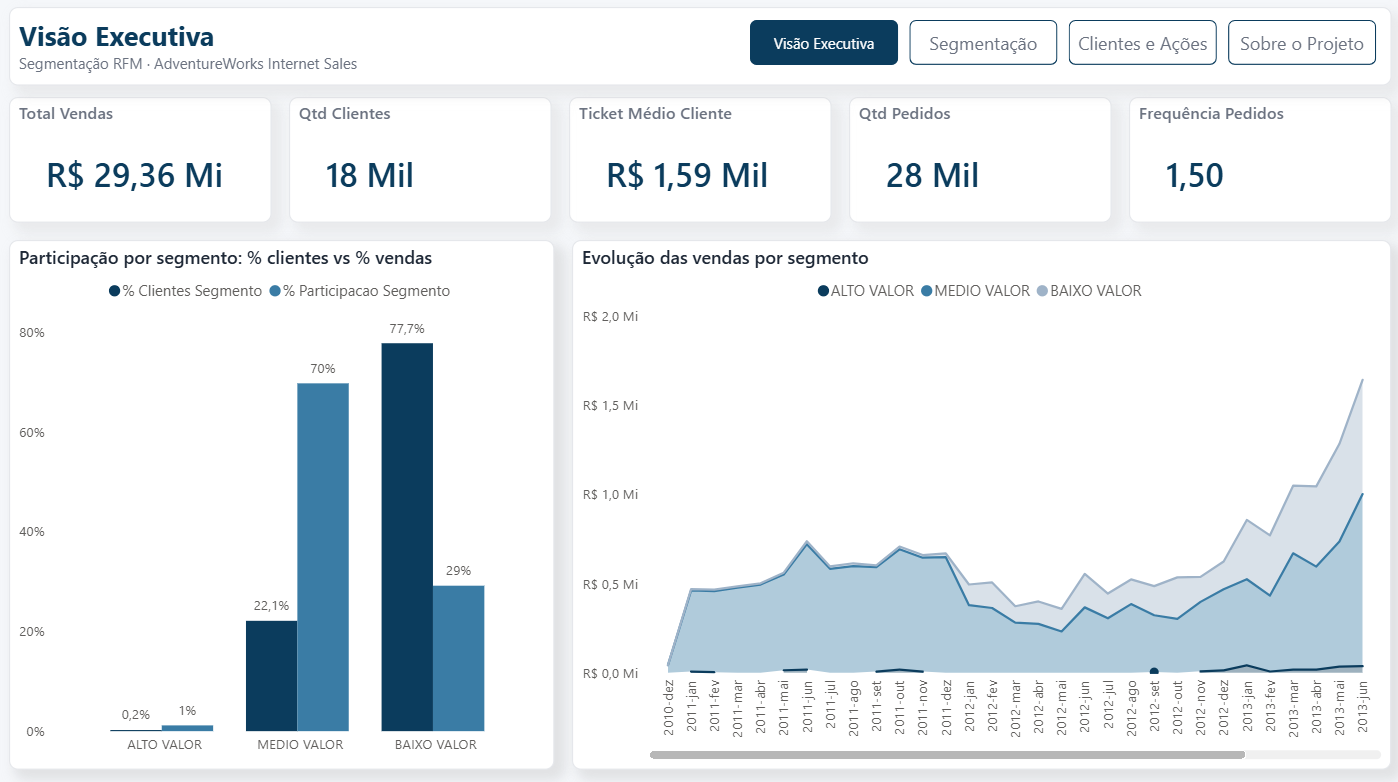

This screenshot's page, from the dashboard's own definition file:
{"tool":"powerbi","page":{"name":"Visão Executiva","canvas":[1280,720],"ordinal":0},"visuals":[{"type":"cardVisual","title":"Total Vendas","fields":{"Data":["# Medidas.Total Vendas"]},"box":[24,96,233.6,112],"z":0},{"type":"cardVisual","title":"Qtd Pedidos","fields":{"Data":["# Medidas.Qtd Pedidos"]},"box":[772.8,96,233.6,112],"z":1000},{"type":"cardVisual","title":"Ticket Médio Cliente","fields":{"Data":["# Medidas.Ticket Medio por Cliente"]},"box":[523.2,96,233.6,112],"z":2000},{"type":"cardVisual","title":"Frequência Pedidos","fields":{"Data":["# Medidas.Frequencia Media Pedidos"]},"box":[1022.4,96,233.6,112],"z":3000},{"type":"cardVisual","title":"Qtd Clientes","fields":{"Data":["# Medidas.Qtd Clientes"]},"box":[273.6,96,233.6,112],"z":4000},{"type":"textbox","box":[24.2,16.2,1231.7,70],"z":5000},{"type":"clusteredColumnChart","title":"Participação por segmento: % clientes vs % vendas","fields":{"Category":["DimCustomer.Segmento Cliente"],"Y":["# Medidas.% Clientes Segmento","# Medidas.% Participacao Segmento"]},"box":[24,224,486,472],"z":6000},{"type":"stackedAreaChart","title":"Evolução das vendas por segmento","fields":{"Category":["DimDate.AnoMes"],"Series":["DimCustomer.Segmento Cliente"],"Y":["# Medidas.Total Vendas"]},"box":[526,224,730,472],"z":7000},{"type":"pageNavigator","box":[684,28,560,40],"z":9000}]}

Visuals, with their boxes in screenshot pixels (x1, y1, x2, y2), scaled from the page's 1280x720 canvas onto the 1398x782 screenshot:
"Total Vendas" cardVisual: x1=26, y1=104, x2=281, y2=226
"Qtd Pedidos" cardVisual: x1=844, y1=104, x2=1099, y2=226
"Ticket Médio Cliente" cardVisual: x1=571, y1=104, x2=827, y2=226
"Frequência Pedidos" cardVisual: x1=1117, y1=104, x2=1372, y2=226
"Qtd Clientes" cardVisual: x1=299, y1=104, x2=554, y2=226
textbox: x1=26, y1=18, x2=1372, y2=94
"Participação por segmento: % clientes vs % vendas" clusteredColumnChart: x1=26, y1=243, x2=557, y2=756
"Evolução das vendas por segmento" stackedAreaChart: x1=574, y1=243, x2=1372, y2=756
pageNavigator: x1=747, y1=30, x2=1359, y2=74
